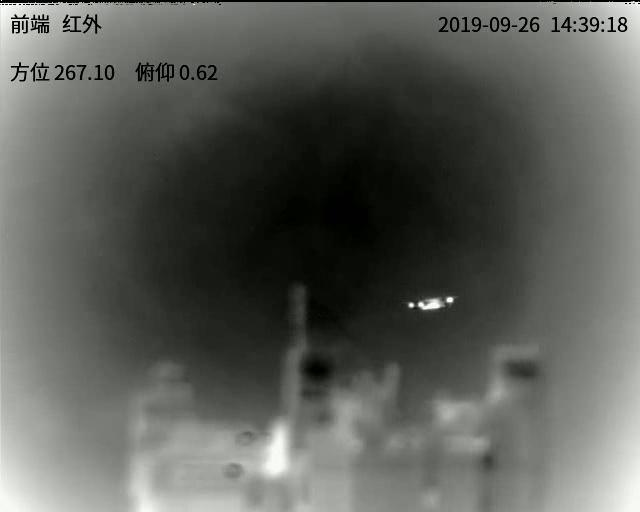DRONE: (406, 293, 457, 313)
